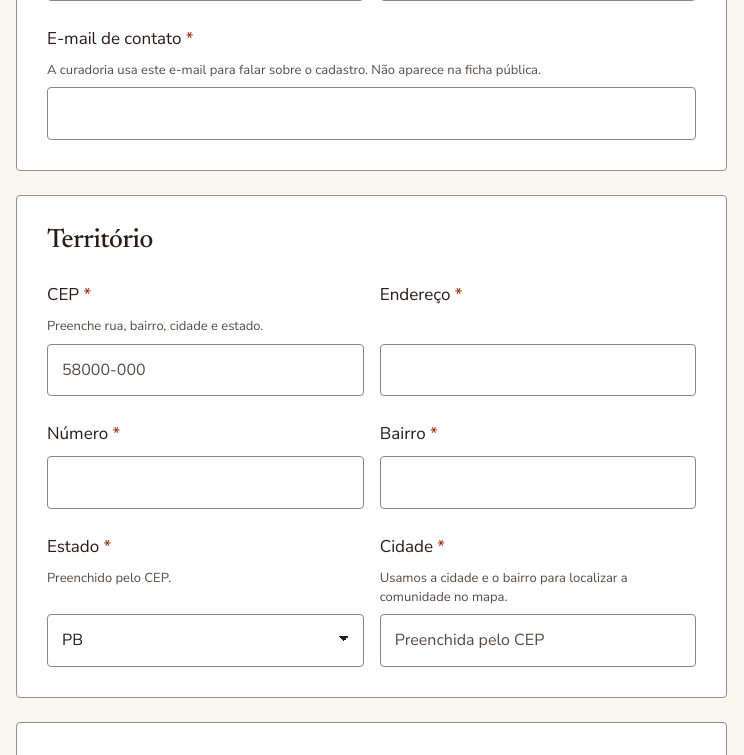
Test: CommunityRegister › preenche endereço, estado e cidade a partir do ViaCEP
(page scrolled)
Type "58030000" into the field labelled "CEP" at [205, 370], box left=47, top=344, right=364, bottom=396
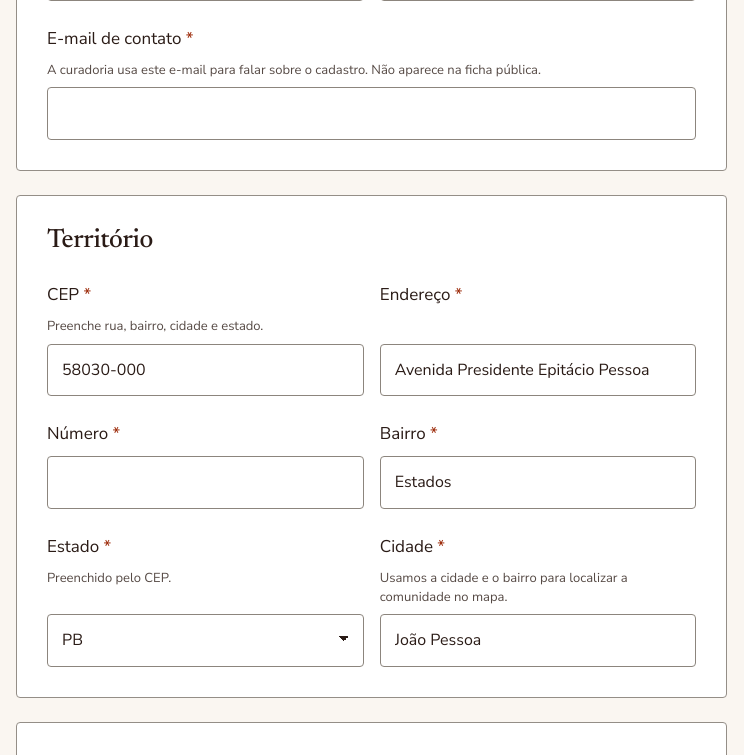
expect the field labelled "Endereço" holds "Avenida Presidente Epitácio Pessoa": met, box left=380, top=344, right=696, bottom=396
expect the field labelled "Bairro" holds "Estados": met, box left=380, top=456, right=696, bottom=509
expect the field labelled "Cidade" holds "João Pessoa": met, box left=380, top=614, right=696, bottom=667
